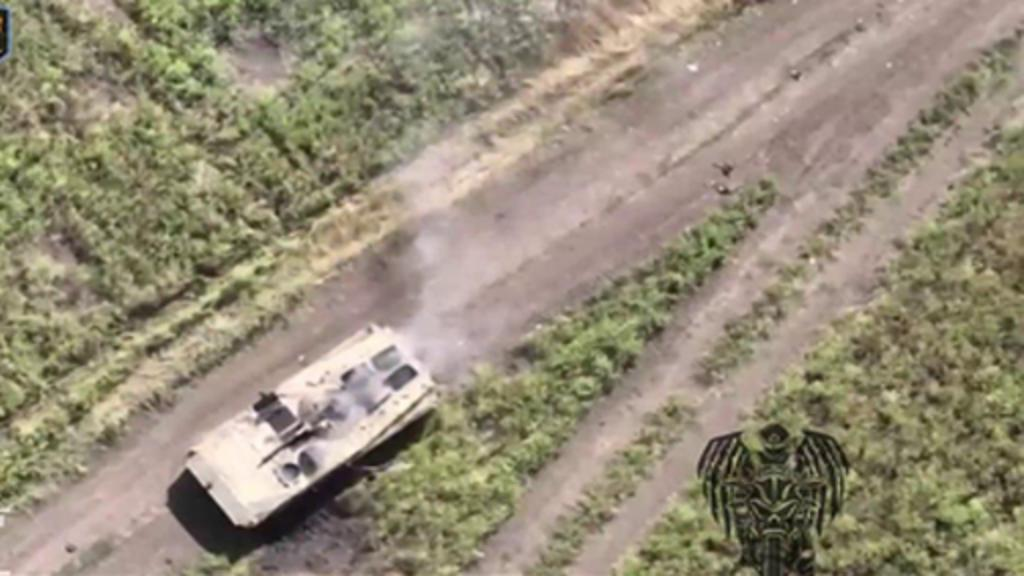APC-IFV: (180, 312, 444, 550)
